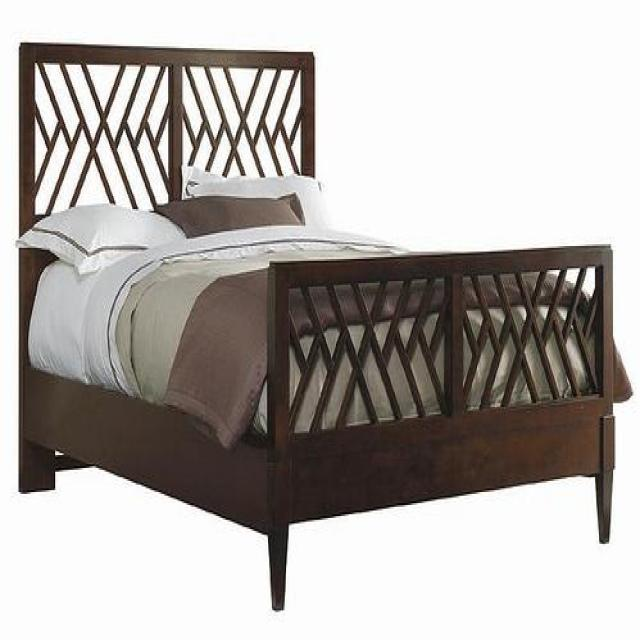bed: (15, 39, 632, 610)
